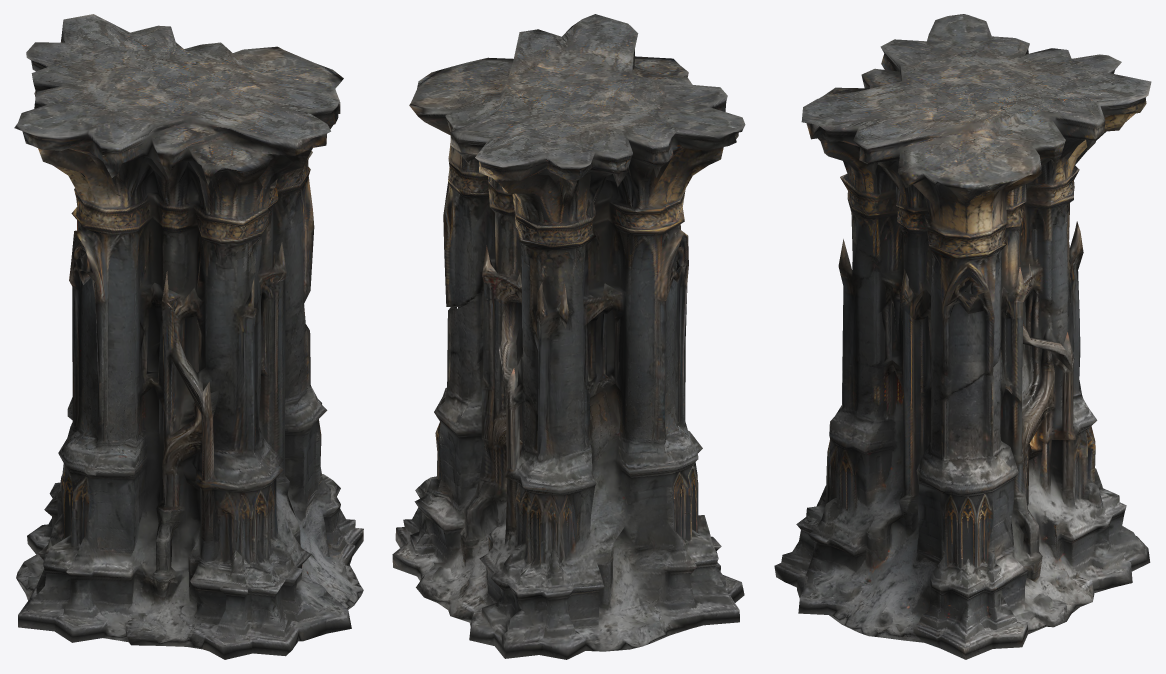
The model's file is env_ca_pillar.glb.
3 renders of one model, left to right at view 1: azimuth 30°, elevation 25°; view 2: azimuth 150°, elevation 25°; view 3: azimuth 270°, elevation 25°, orthographic. The views are drawn at different scales.
Parts seen in each view (by area): view 1: tripo_node_336dc330-e69f-4b55-9ccc-5bd15a04be58; view 2: tripo_node_336dc330-e69f-4b55-9ccc-5bd15a04be58; view 3: tripo_node_336dc330-e69f-4b55-9ccc-5bd15a04be58.
Part boxes in pixels (x1=…): tripo_node_336dc330-e69f-4b55-9ccc-5bd15a04be58: x1=14, y1=14, x2=363, y2=659; tripo_node_336dc330-e69f-4b55-9ccc-5bd15a04be58: x1=392, y1=14, x2=745, y2=659; tripo_node_336dc330-e69f-4b55-9ccc-5bd15a04be58: x1=774, y1=14, x2=1151, y2=659.
Size of the model in its own units: 0.7318 by 1 by 0.7075.
1 material, 1 textured.
